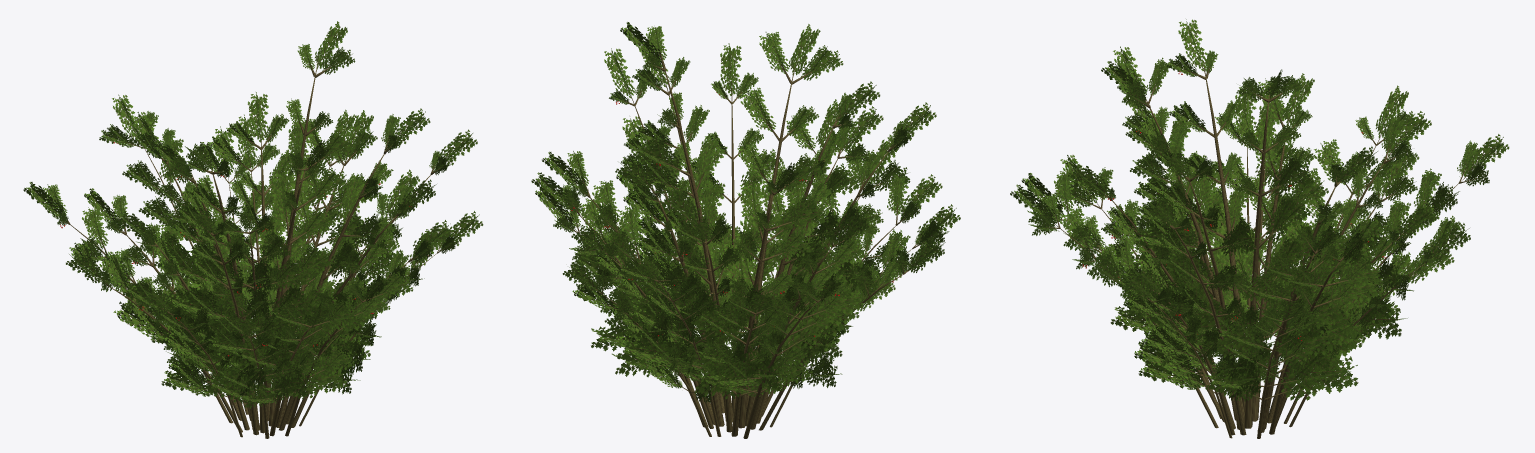
File: common-hawthorn.glb
3 renders of one model, left to right at view 1: azimuth 30°, elevation 25°; view 2: azimuth 150°, elevation 25°; view 3: azimuth 270°, elevation 25°, orthographic. The views are drawn at different scales.
Visible parts, largest first — view 1: Common Hawthorn; view 2: Common Hawthorn; view 3: Common Hawthorn.
Part boxes in pixels (box(x1,y1,x2,y2)): Common Hawthorn: box(23, 21, 483, 438); Common Hawthorn: box(531, 22, 960, 438); Common Hawthorn: box(1010, 19, 1509, 438).
Size of the model in its own units: 3.03 by 2.83 by 3.26.
Materials: 3 (3 with a texture image).
